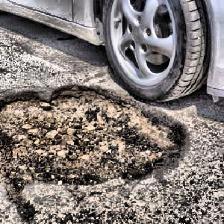pothole: (0, 83, 188, 187)
